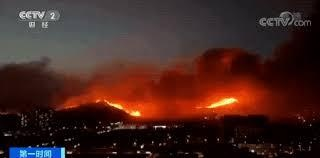fire: (99, 97, 143, 117), (204, 94, 237, 109)
